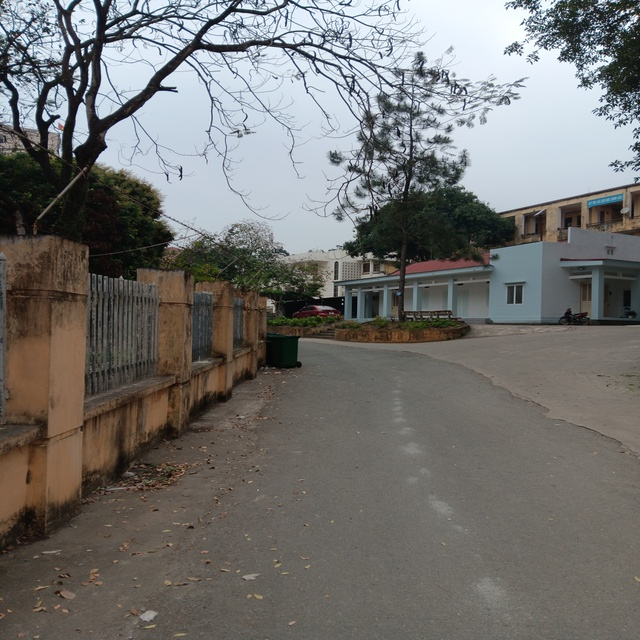thungrac: (259, 329, 305, 379)
